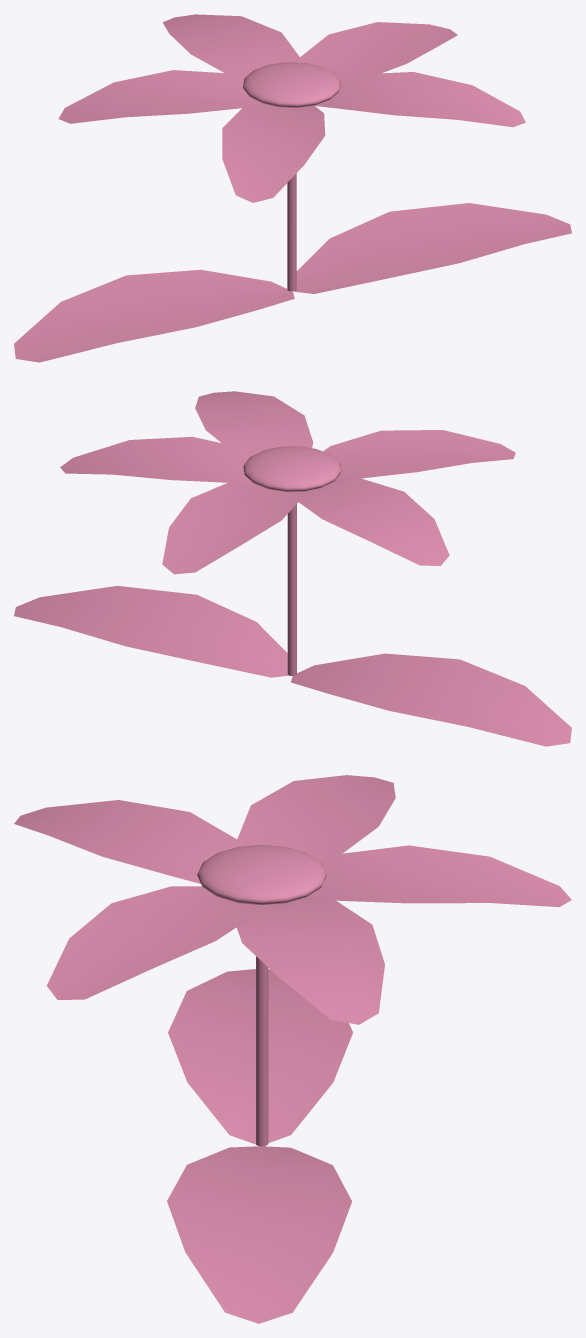
File: Flower_20.fbx
3 renders of one model, top to bottom at view 1: azimuth 30°, elevation 25°; view 2: azimuth 150°, elevation 25°; view 3: azimuth 270°, elevation 25°, orthographic. The views are drawn at different scales.
Parts seen in each view (by area): view 1: Reaf1, Reaf, petal2, petal3, petal1, petal4, petal, pSphere1, pCylinder9; view 2: Reaf1, Reaf, petal, petal1, petal4, petal2, petal3, pSphere1, pCylinder9; view 3: Reaf, Reaf1, petal4, petal3, petal, petal2, petal1, pSphere1, pCylinder9.
Boxes of the visible parts, bbox=[...] form: Reaf1: bbox=[14, 269, 294, 362]; Reaf: bbox=[293, 203, 571, 293]; petal2: bbox=[222, 104, 325, 202]; petal3: bbox=[314, 72, 525, 127]; petal1: bbox=[58, 70, 264, 123]; petal4: bbox=[299, 22, 457, 82]; petal: bbox=[162, 14, 300, 79]; pSphere1: bbox=[243, 62, 340, 107]; pCylinder9: bbox=[287, 173, 296, 291]; Reaf1: bbox=[291, 653, 571, 746]; Reaf: bbox=[14, 585, 288, 677]; petal: bbox=[162, 482, 300, 574]; petal1: bbox=[295, 478, 449, 565]; petal4: bbox=[60, 436, 251, 482]; petal2: bbox=[323, 430, 515, 479]; petal3: bbox=[195, 391, 313, 456]; pSphere1: bbox=[243, 446, 341, 491]; pCylinder9: bbox=[287, 504, 296, 675]; Reaf: bbox=[167, 1146, 351, 1323]; Reaf1: bbox=[168, 969, 352, 1144]; petal4: bbox=[232, 897, 384, 1024]; petal3: bbox=[46, 886, 255, 999]; petal: bbox=[307, 845, 571, 907]; petal2: bbox=[14, 800, 239, 883]; petal1: bbox=[236, 775, 395, 862]; pSphere1: bbox=[197, 845, 326, 904]; pCylinder9: bbox=[256, 956, 268, 1146].
Size of the model in its own units: 127 by 47.32 by 84.4.
